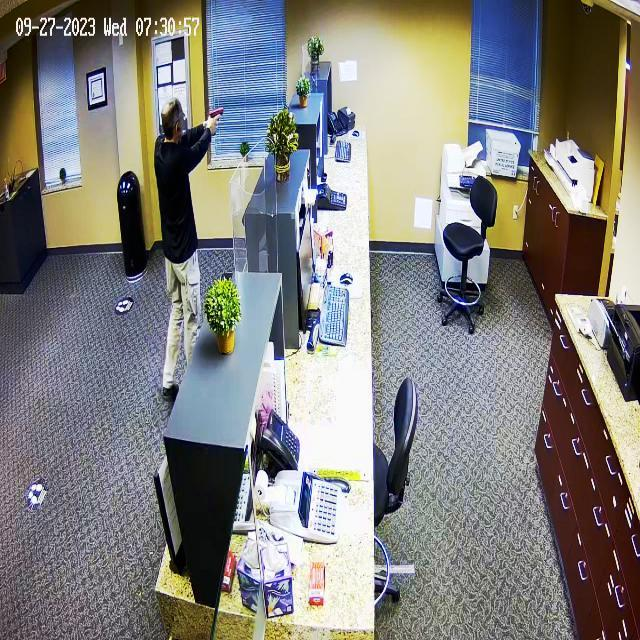Gun: (209, 101, 232, 142)
